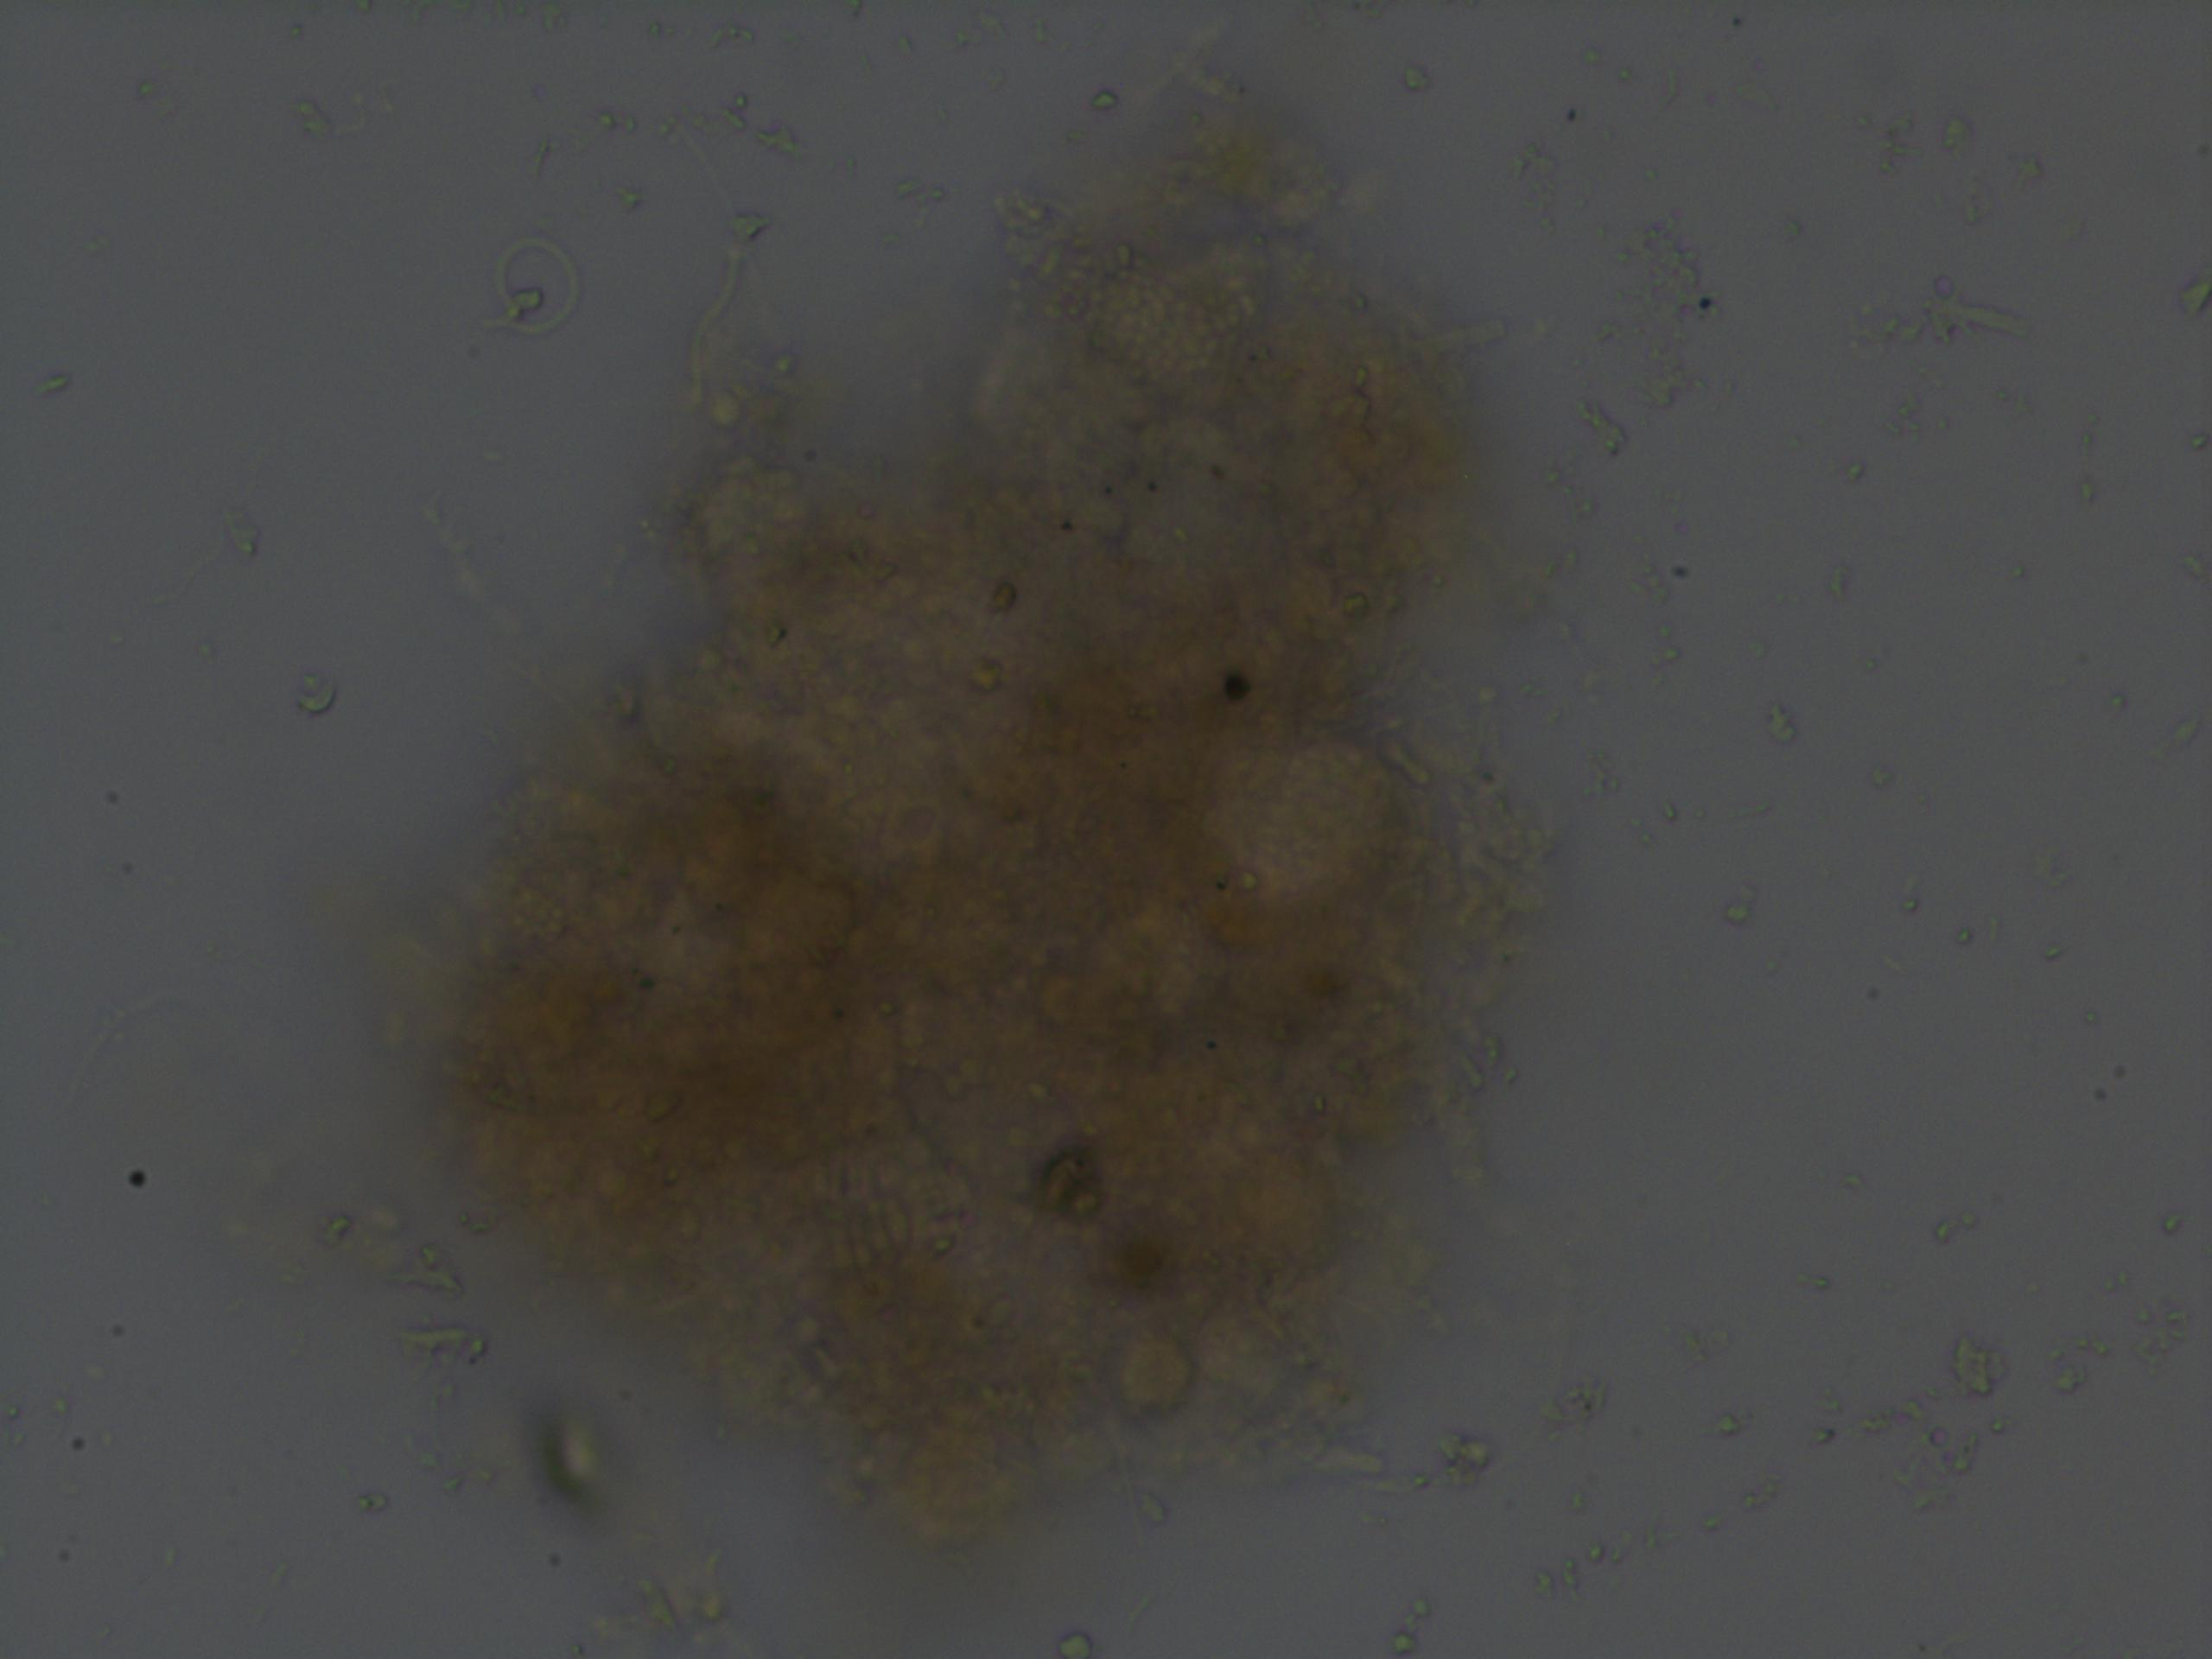spherical_floc: (378, 124, 1533, 1558)
